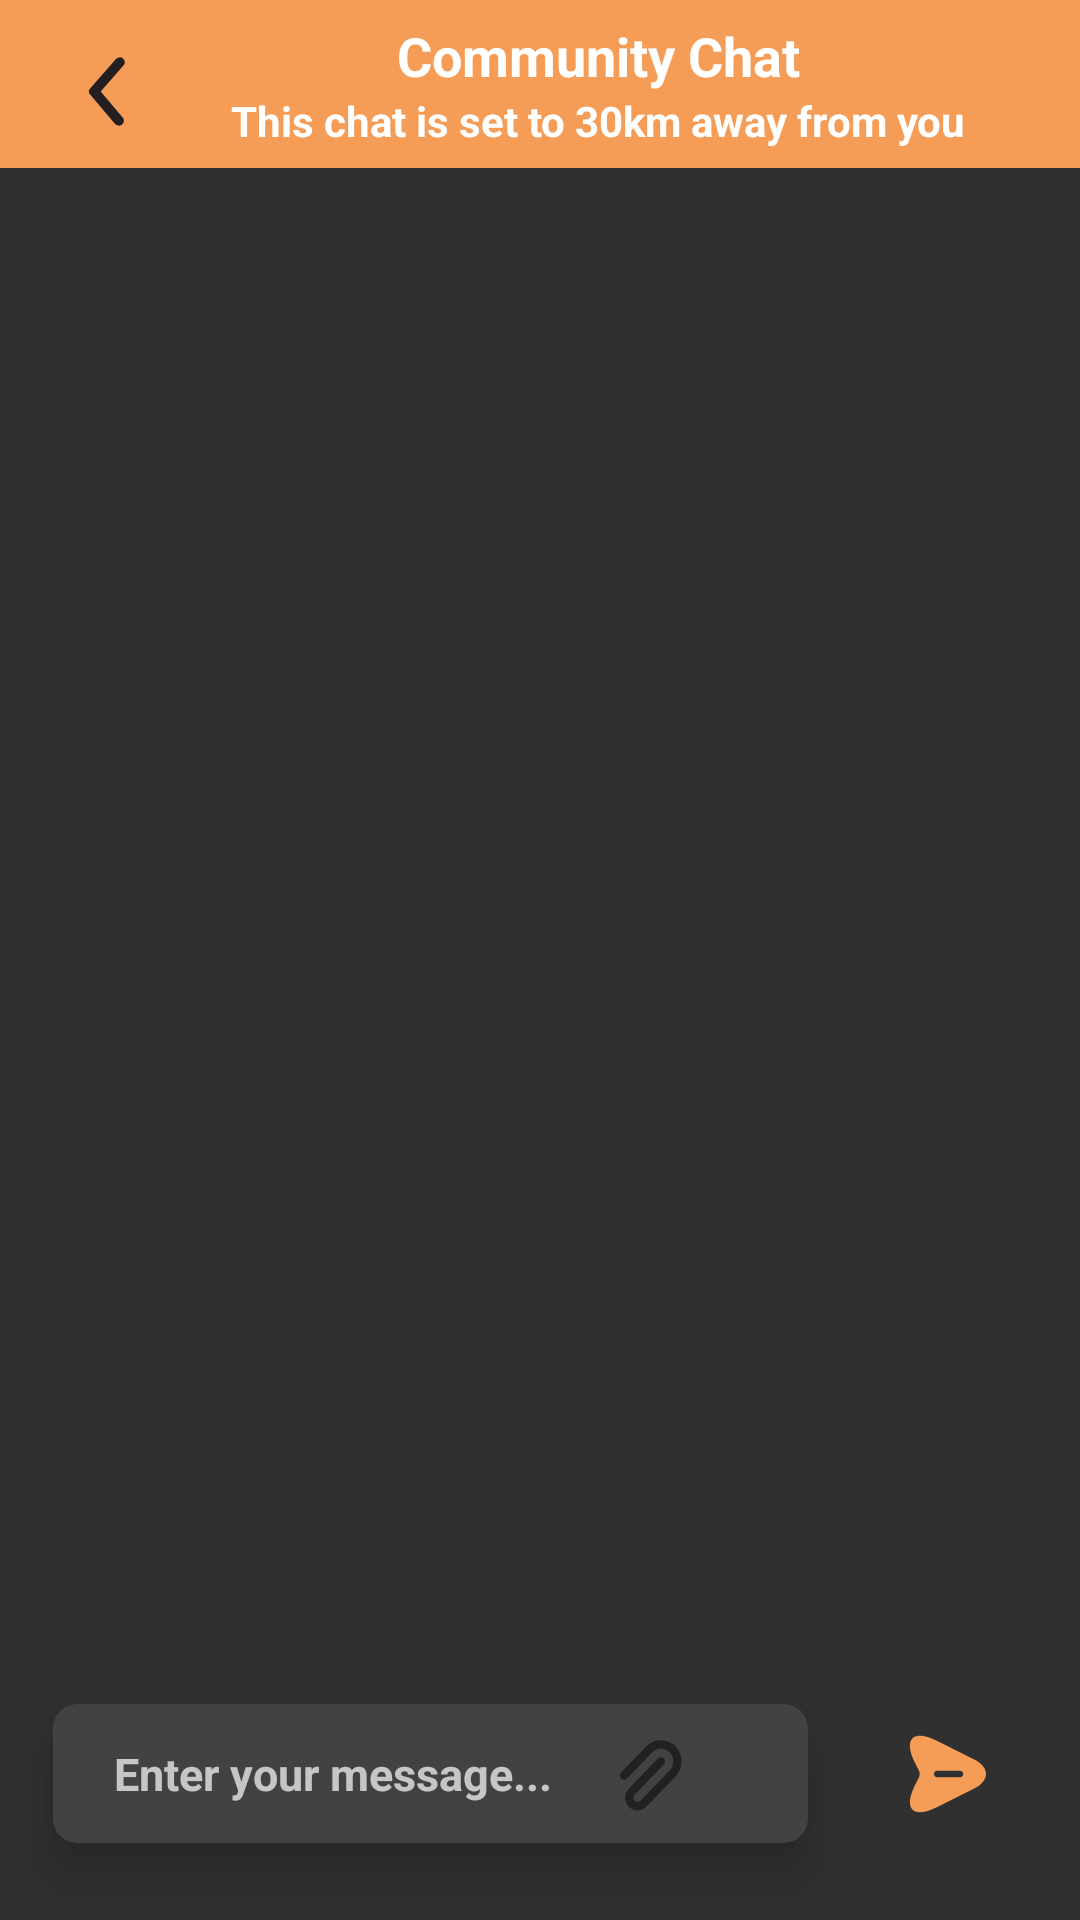

Named icons in this screenshot (1080 × 1920) and their centers, point (x, y):
attach: point (650, 1775)
send: point (948, 1774)
